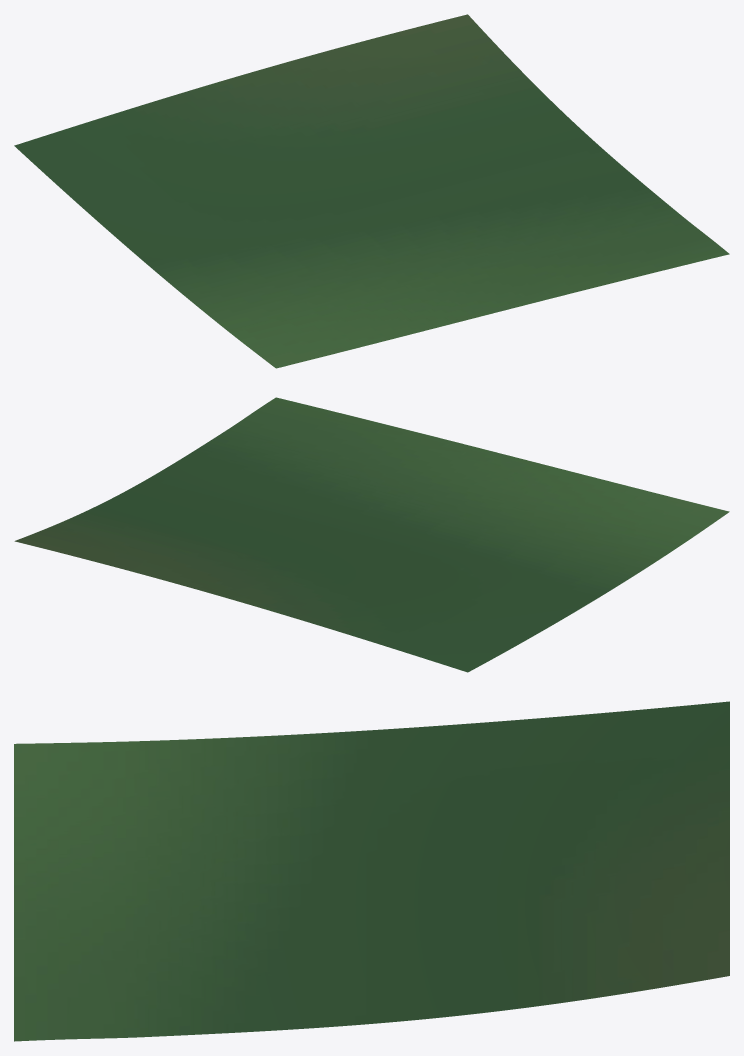
File: terrain_T_W01_N04.glb
The picture shows the model from 3 angles, top to bottom: view 1: azimuth 30°, elevation 25°; view 2: azimuth 150°, elevation 25°; view 3: azimuth 270°, elevation 25°; orthographic projection. The views are drawn at different scales.
Visible parts, largest first — view 1: Terrain_T_W01_N04; view 2: Terrain_T_W01_N04; view 3: Terrain_T_W01_N04.
Boxes of the visible parts, <box> form: Terrain_T_W01_N04: <box>14,14,729,368</box>; Terrain_T_W01_N04: <box>14,397,729,672</box>; Terrain_T_W01_N04: <box>14,701,729,1041</box>.
Bounding box in the file's own units: 2000 × 217 × 2000.
Materials: 1 (1 with a texture image).
